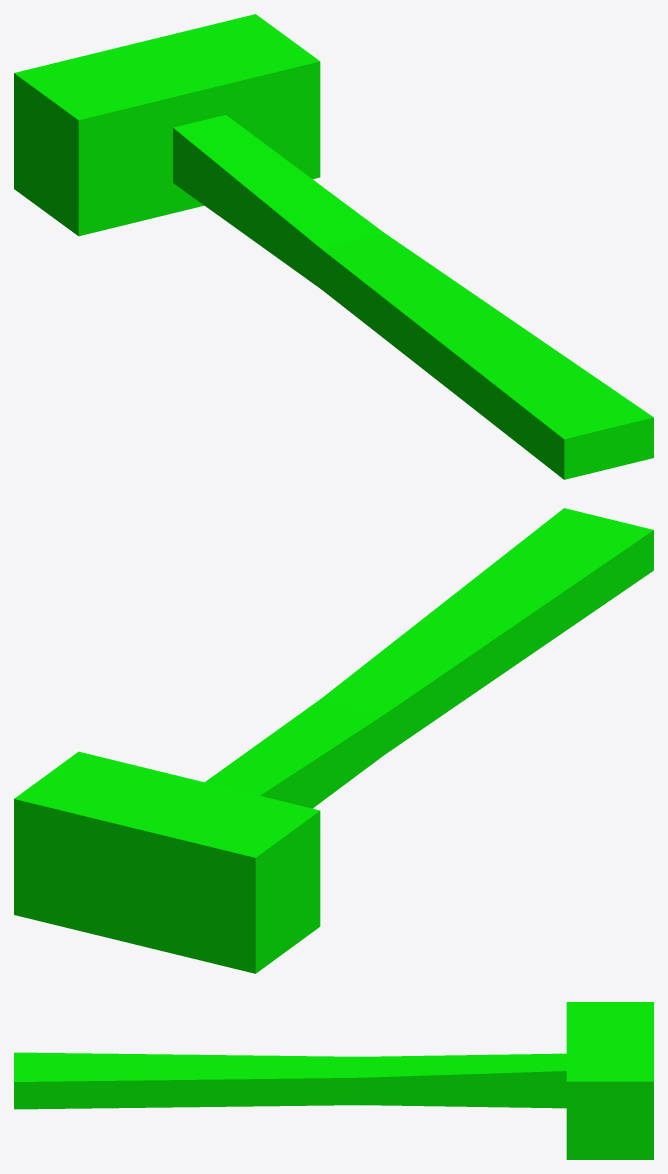
Rendered from SM_KitchenTool_10_Collider.fbx.
The picture shows the model from 3 angles, top to bottom: view 1: azimuth 30°, elevation 25°; view 2: azimuth 150°, elevation 25°; view 3: azimuth 270°, elevation 25°; orthographic projection. The views are drawn at different scales.
Parts seen in each view (by area): view 1: SM_KitchenTool_10_Collider; view 2: SM_KitchenTool_10_Collider; view 3: SM_KitchenTool_10_Collider.
Part boxes in pixels (x1,y1,x2,y2): SM_KitchenTool_10_Collider: (14, 14, 653, 479); SM_KitchenTool_10_Collider: (14, 508, 653, 973); SM_KitchenTool_10_Collider: (14, 1002, 653, 1159).
Bounding box in the file's own units: 12.95 × 5.94 × 44.01.
